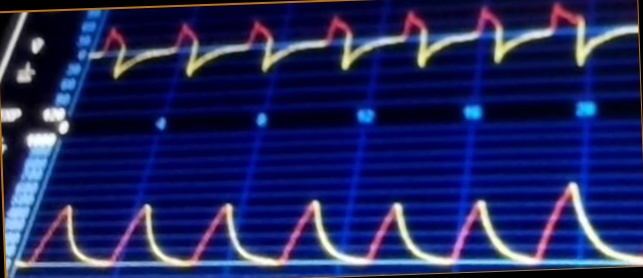Normal Flow: (93, 1, 635, 98)
Normal Volume: (16, 180, 639, 270)
